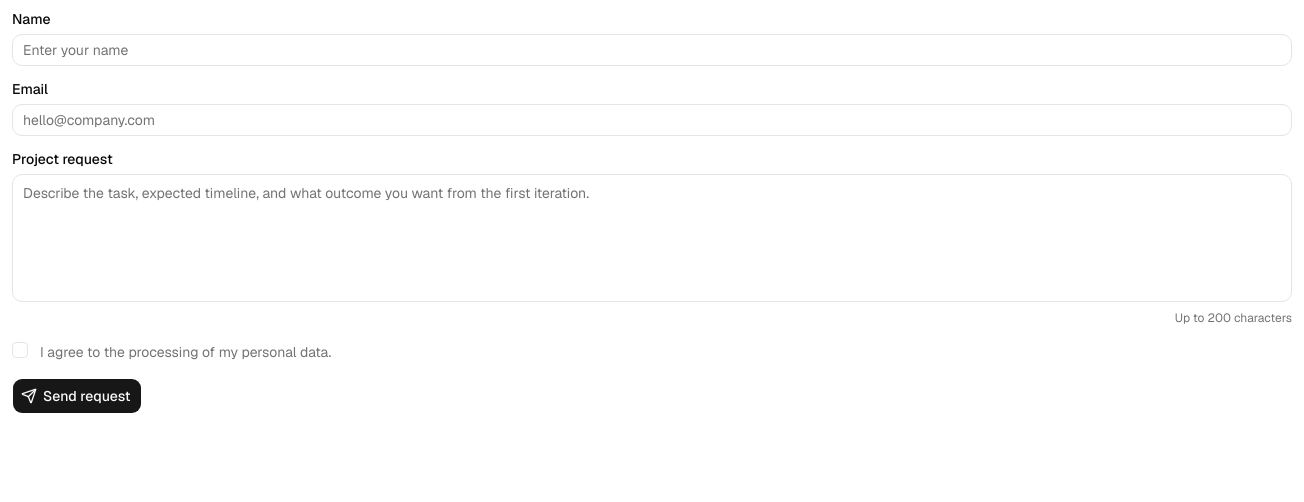
Test: LeadForm › shows Zod validation errors and does not submit invalid data
Click the button "Send request" at point(77, 396), box [12,378,142,414]
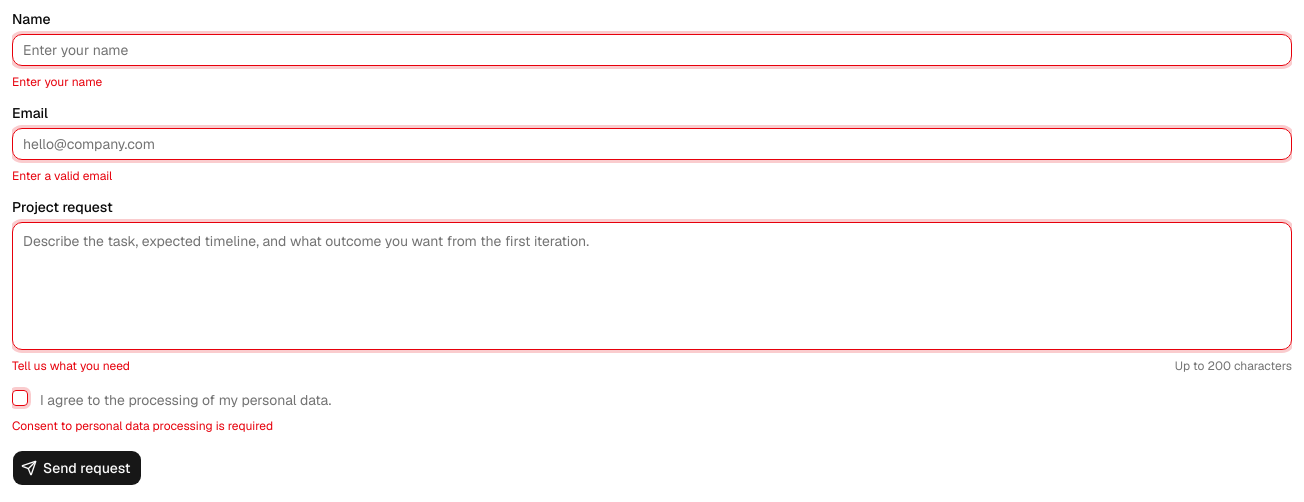
Check: the text "Enter your name" is shown, box [12,74,102,90]
Check: the text "Enter a valid email" is shown, box [12,168,112,184]
Check: the text "Tell us what you need" is shown, box [12,358,130,374]
